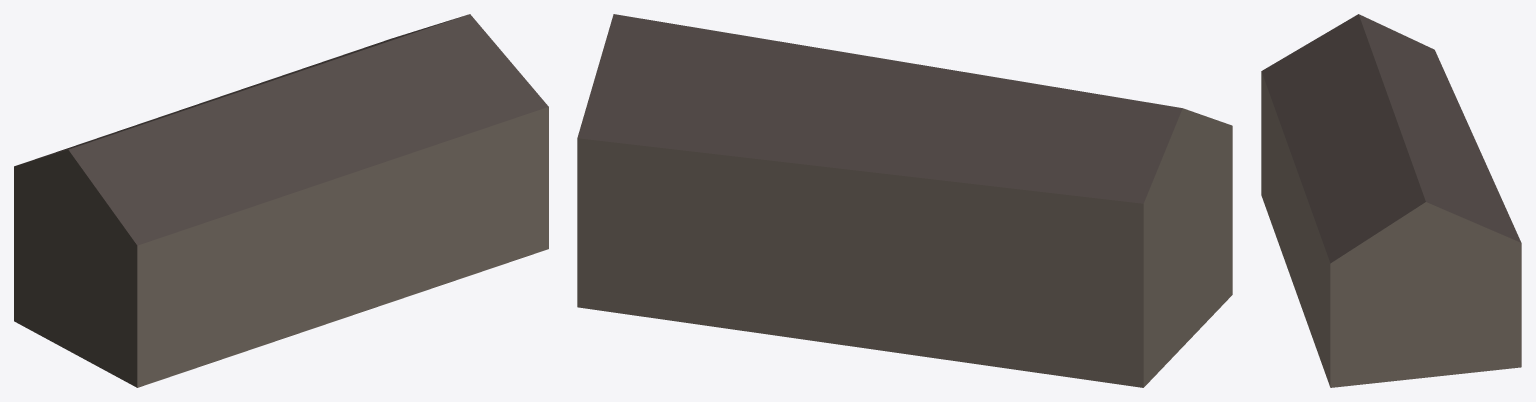
3 renders of one model, left to right at view 1: azimuth 30°, elevation 25°; view 2: azimuth 150°, elevation 25°; view 3: azimuth 270°, elevation 25°, orthographic. The views are drawn at different scales.
Parts seen in each view (by area): view 1: HP-w1512965863; view 2: HP-w1512965863; view 3: HP-w1512965863.
Part boxes in pixels (bbox=[...]): HP-w1512965863: bbox=[14, 14, 548, 387]; HP-w1512965863: bbox=[577, 14, 1232, 387]; HP-w1512965863: bbox=[1261, 14, 1521, 387].
Bounding box in the file's own units: 20.96 × 8.47 × 11.36.
